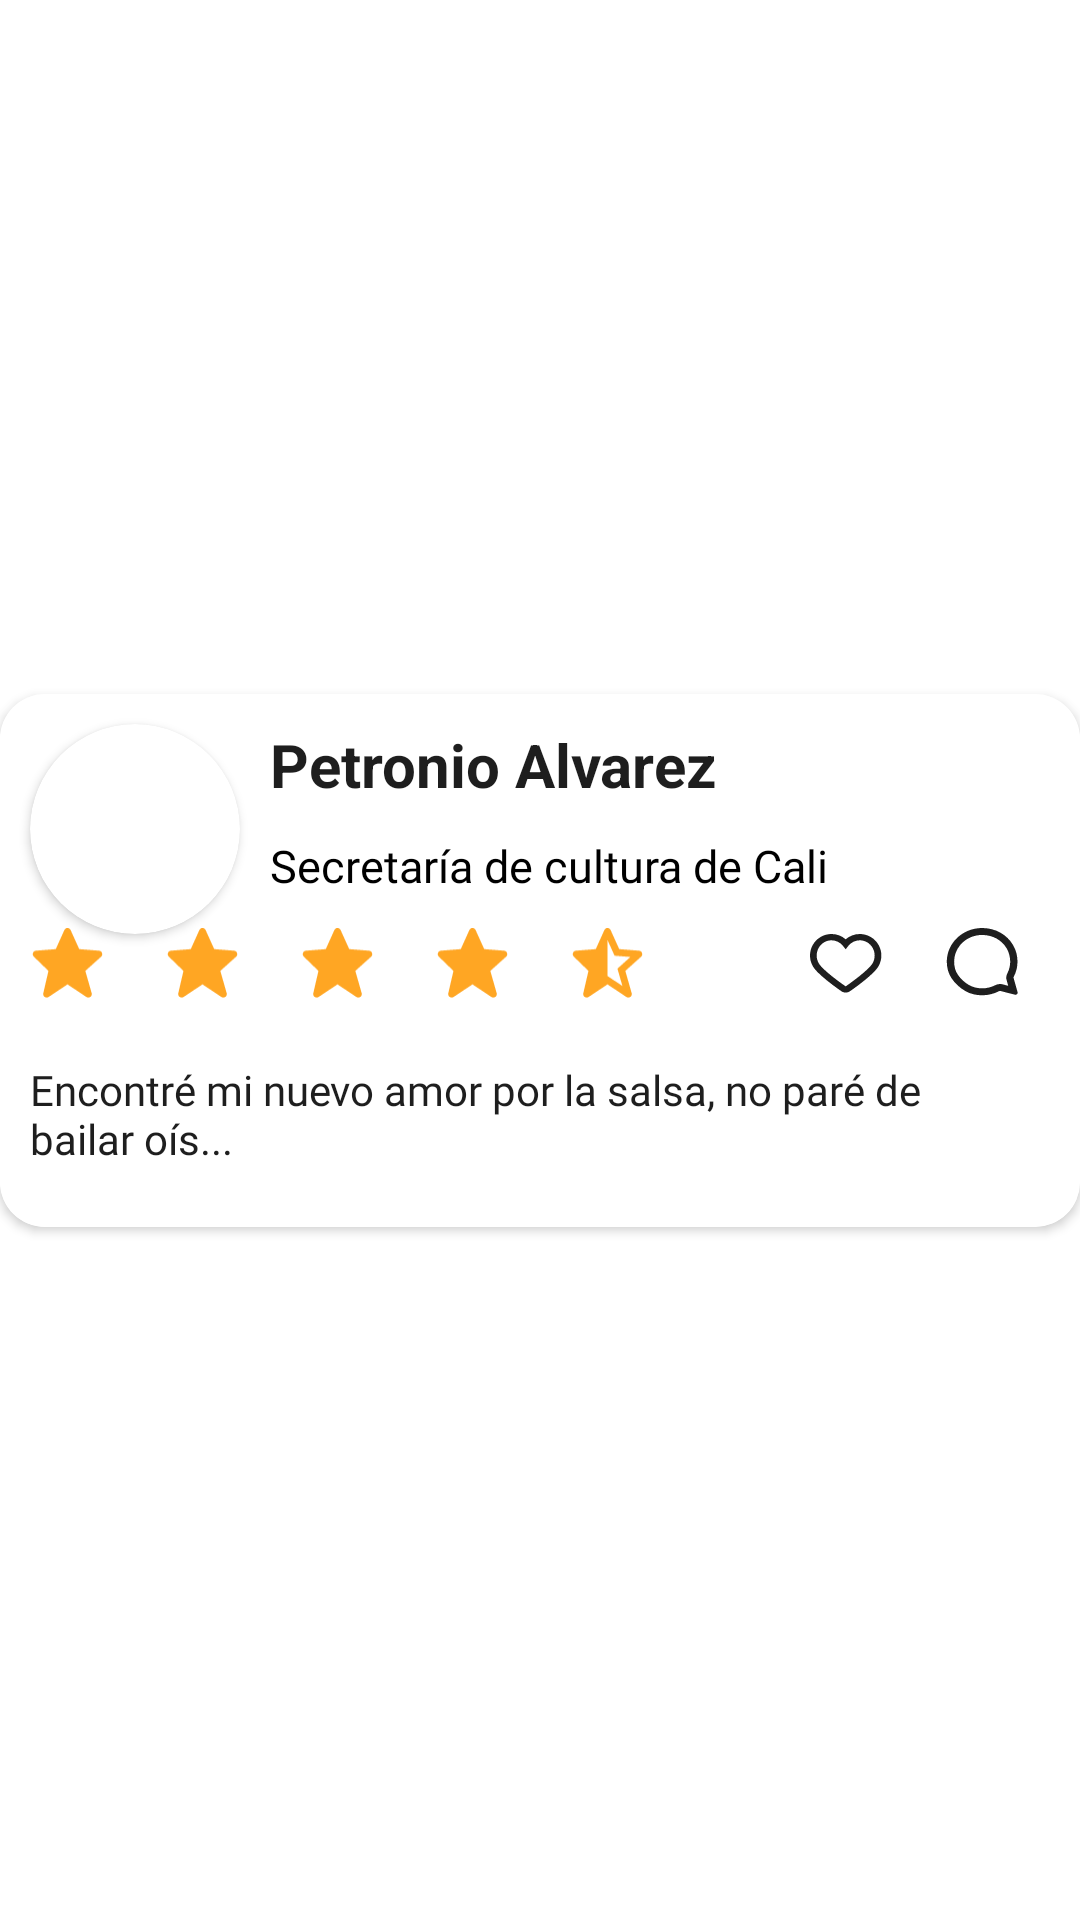

Icon bounding boxes for this 1080 × 1920 phone screenshot, format (x1, y1, x2, y2):
comment: (946, 928, 1018, 996)
full star: (32, 928, 103, 998), (167, 928, 238, 998), (302, 928, 373, 998), (437, 928, 508, 998)
half star: (572, 928, 643, 998)
like: (810, 934, 882, 993)
